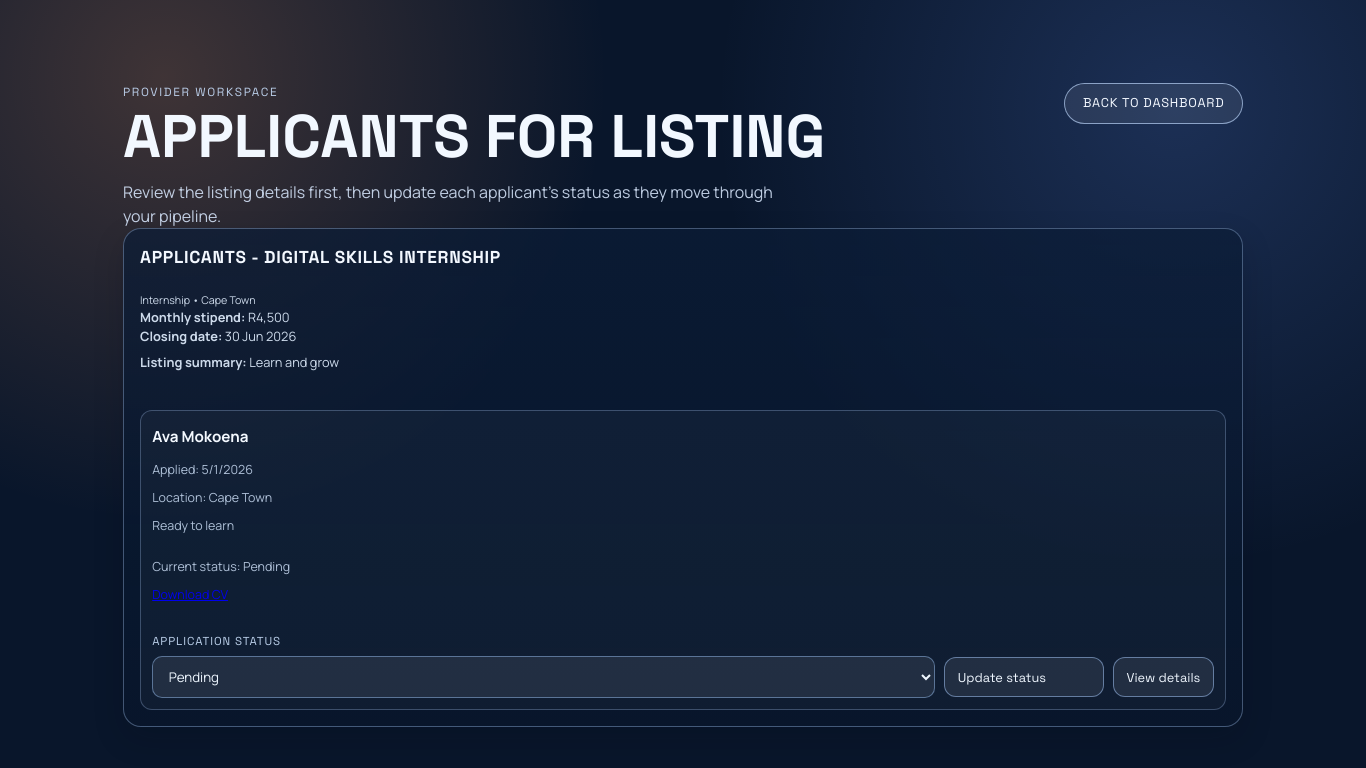
Test case: ProviderListingApplications coverage › updates an applicant status and shows the success message
Expected: the heading "Applicants - Digital Skills Internship" is shown, [140, 246, 501, 268]
Select "Accepted" in the dropdown named "Application status for Ava Mokoena" at (544, 677), box [152, 656, 936, 698]
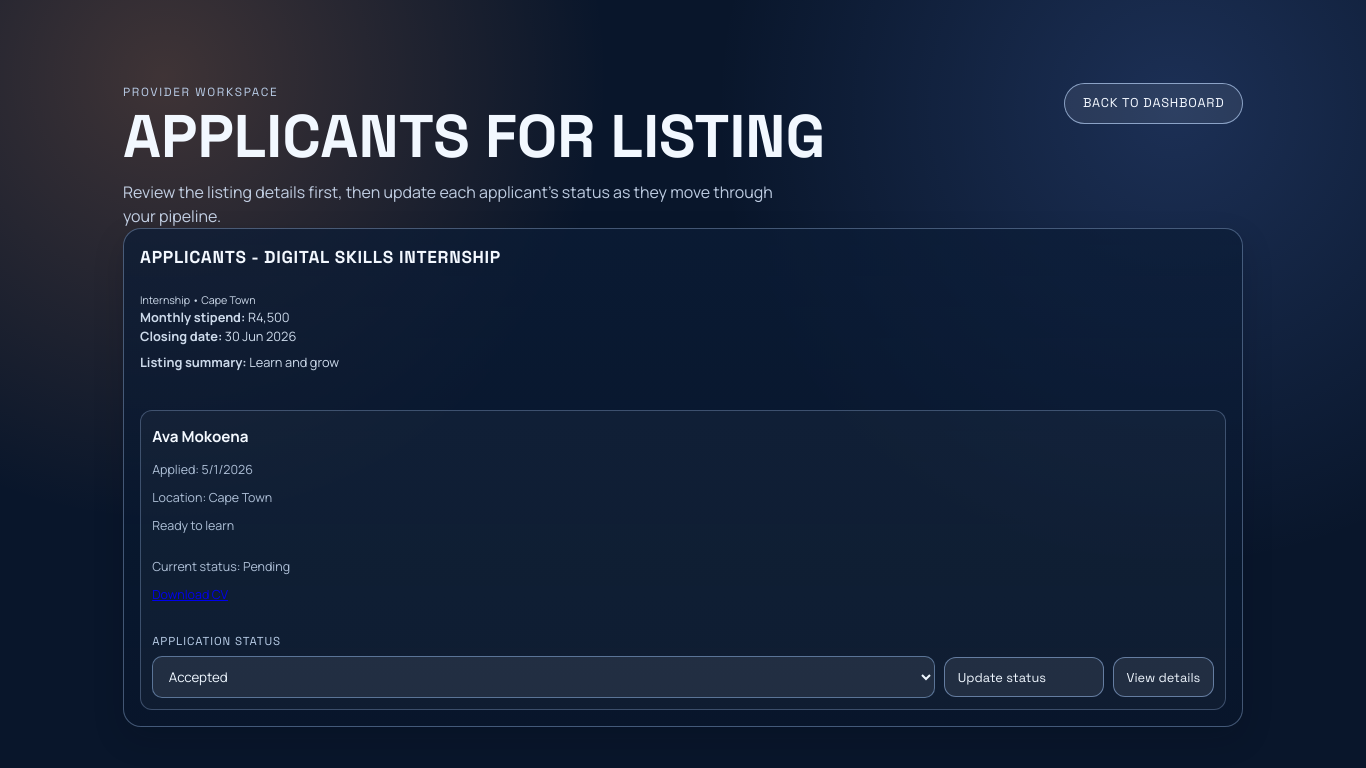
Click the button "Update status" at (1024, 677), box [944, 657, 1104, 697]
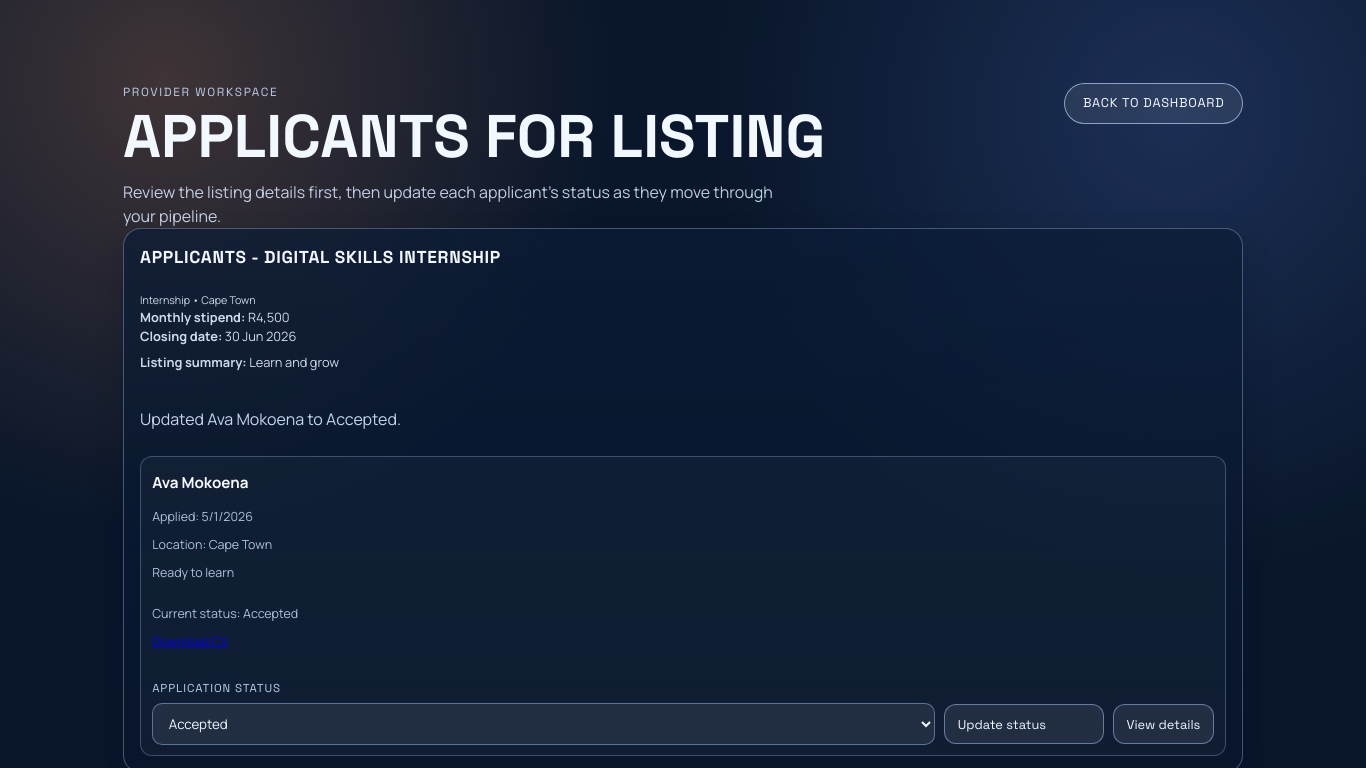
Result: the text "Updated Ava Mokoena to Accepted." is shown at [140, 408, 401, 430]
